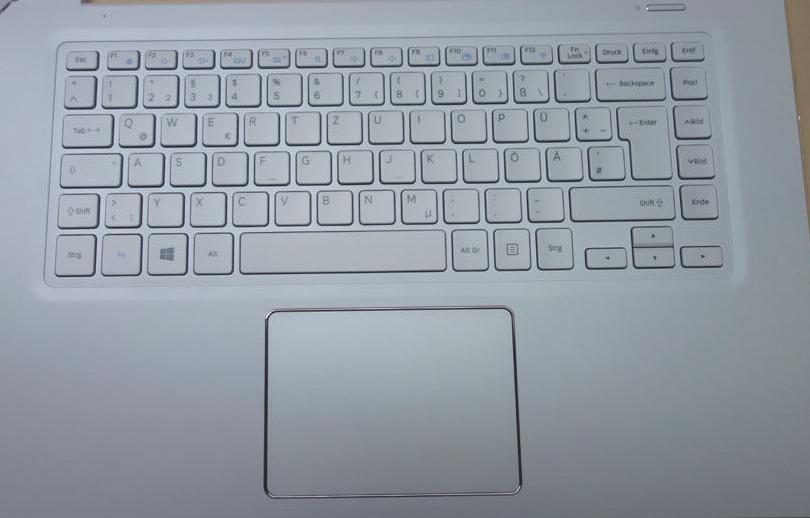0: (468, 66, 505, 101)
1: (99, 72, 135, 106)
2: (139, 72, 177, 105)
3: (181, 71, 218, 105)
4: (222, 70, 258, 105)
5: (263, 70, 299, 104)
6: (305, 70, 340, 103)
7: (345, 69, 382, 103)
8: (386, 68, 423, 103)
9: (427, 67, 464, 102)
a: (124, 149, 161, 184)
accent: (551, 65, 588, 100)
ae: (543, 144, 580, 179)
alt-left: (190, 230, 232, 273)
altgr-right: (448, 226, 487, 269)
b: (313, 187, 351, 223)
c: (229, 188, 266, 224)
caret: (61, 72, 93, 106)
comma: (439, 185, 477, 221)
d: (208, 148, 245, 183)
del: (592, 63, 665, 99)
e: (198, 109, 236, 144)
enter: (614, 102, 669, 177)
f: (251, 148, 288, 183)
g: (292, 147, 329, 183)
h: (333, 146, 371, 182)
hash: (584, 143, 623, 178)
i: (406, 106, 442, 141)
j: (376, 146, 412, 181)
k: (418, 145, 454, 181)
keyboard: (42, 31, 729, 287)
l: (459, 145, 496, 180)
less: (101, 189, 140, 226)
m: (397, 186, 435, 222)
minus: (523, 184, 561, 219)
n: (355, 186, 393, 222)
o: (447, 105, 484, 140)
oe: (500, 144, 538, 179)
p: (488, 105, 525, 140)
plus: (571, 104, 610, 139)
point: (481, 185, 519, 221)
q: (115, 110, 153, 145)
r: (240, 109, 277, 143)
s: (166, 149, 203, 184)
shift-left: (54, 189, 97, 227)
shift-lock: (57, 149, 120, 186)
shift-right: (566, 182, 674, 219)
space: (237, 226, 444, 272)
ss: (509, 66, 547, 100)
strg-left: (52, 231, 94, 275)
strg-right: (532, 225, 572, 268)
t: (282, 108, 318, 143)
tab: (59, 110, 111, 146)
u: (364, 107, 401, 142)
ue: (530, 105, 567, 140)
v: (271, 187, 308, 224)
w: (157, 109, 194, 144)
x: (187, 189, 224, 225)
y: (144, 189, 182, 225)
z: (323, 107, 360, 142)
